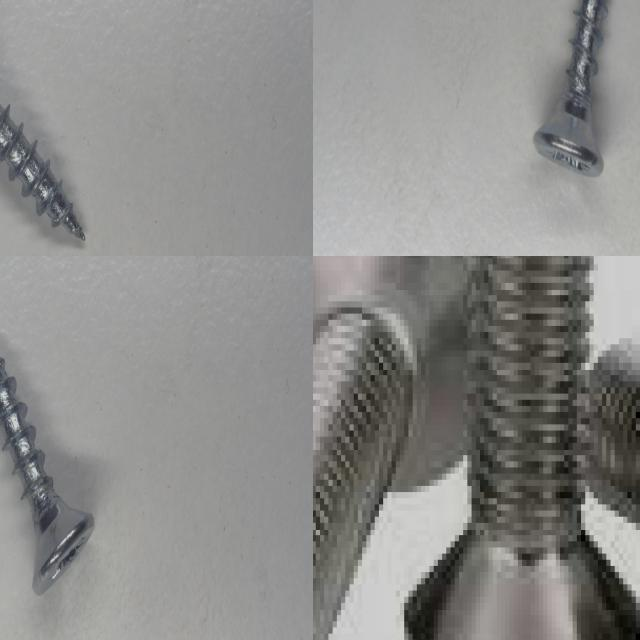Screw: (400, 256, 640, 640), (313, 256, 471, 640), (0, 355, 94, 594), (533, 0, 607, 176), (0, 103, 85, 238)
